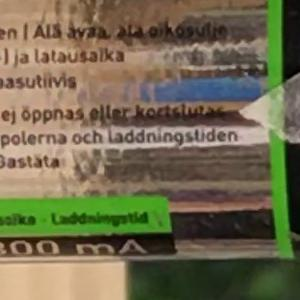keyword: (75, 38, 119, 73)
